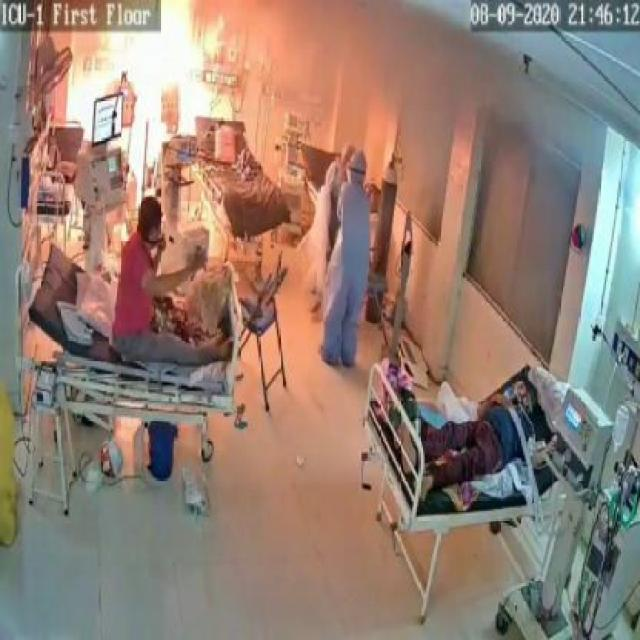fire: (102, 1, 225, 172)
smoke: (294, 3, 614, 174)
